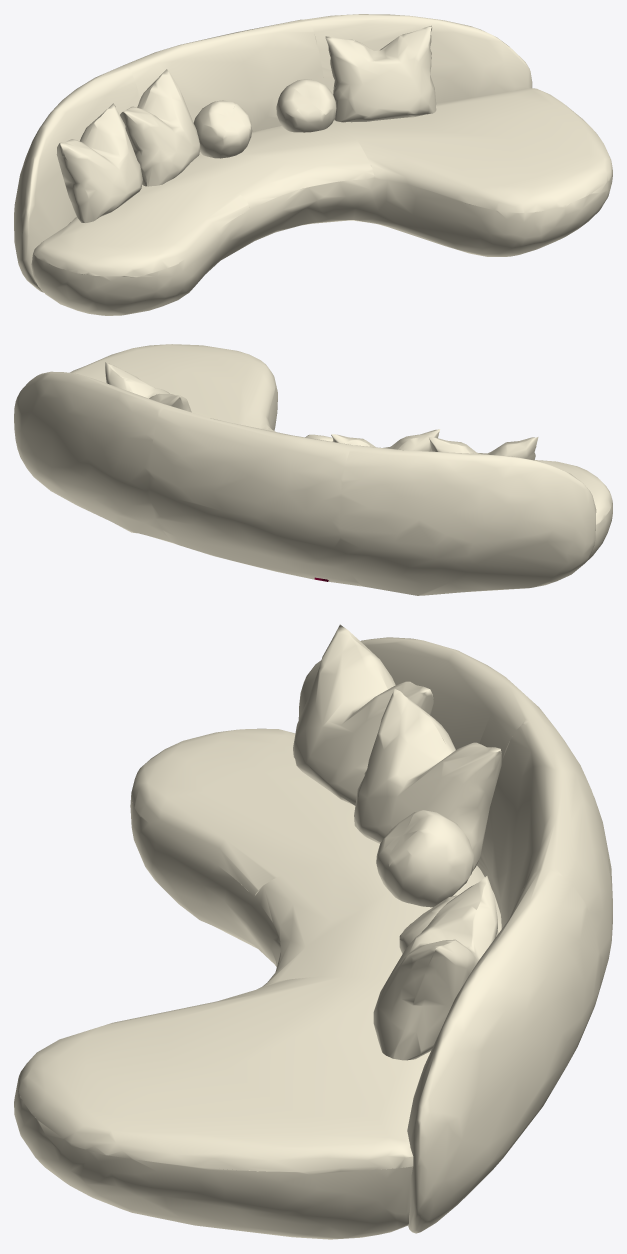
File: sofa-modelo-meia-lua-chaise.glb
3 renders of one model, top to bottom at view 1: azimuth 30°, elevation 25°; view 2: azimuth 150°, elevation 25°; view 3: azimuth 270°, elevation 25°, orthographic. The views are drawn at different scales.
Visible parts, largest first — view 1: Modelo Meia Lua Chaise; view 2: Modelo Meia Lua Chaise; view 3: Modelo Meia Lua Chaise.
Boxes of the visible parts, x1,y1,x2,y2 form: Modelo Meia Lua Chaise: [14, 14, 612, 315]; Modelo Meia Lua Chaise: [14, 344, 612, 595]; Modelo Meia Lua Chaise: [14, 624, 612, 1239].
Size of the model in its own units: 3 by 0.7978 by 1.73.
